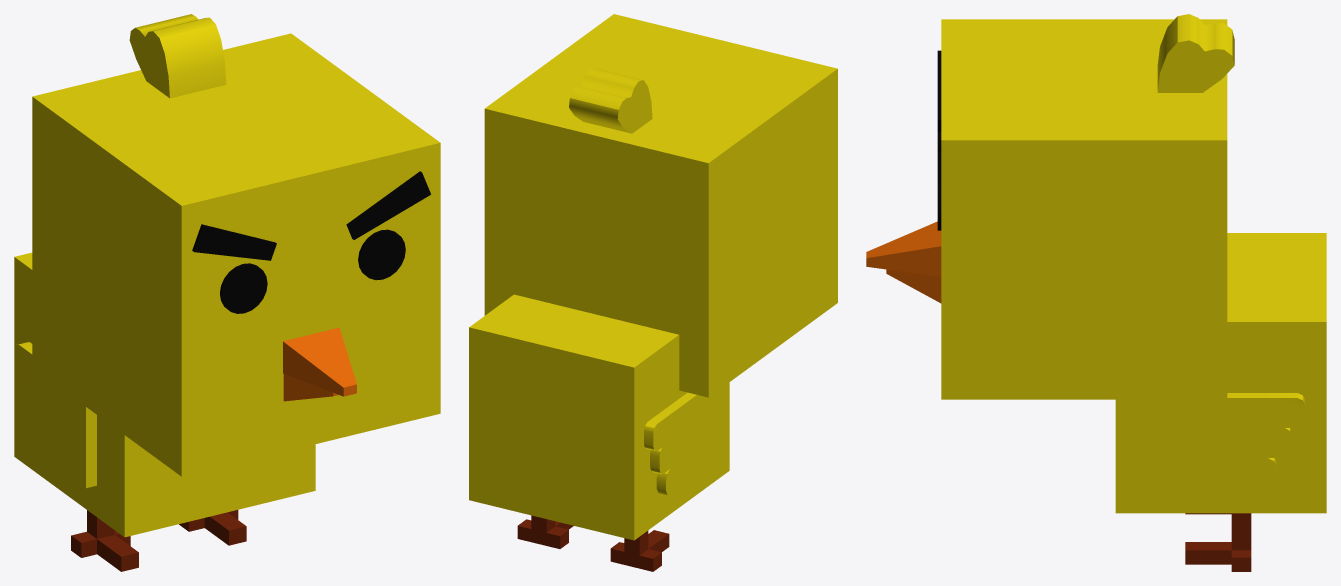
Rendered from Lv01_Bbiyomi.fbx.
3 renders of one model, left to right at view 1: azimuth 30°, elevation 25°; view 2: azimuth 150°, elevation 25°; view 3: azimuth 270°, elevation 25°, orthographic. The views are drawn at different scales.
Visible parts, largest first — view 1: pCube1, pCube2, pCube9, pCube5, pCube3, pCube11, pCube6, pCube7, pCylinder2, pCylinder1, pCube10, pCube4; view 2: pCube1, pCube2, pCube9, pCube5, pCube11, pCube10; view 3: pCube1, pCube2, pCube8, pCube5, pCube3, pCube10, pCube4.
Boxes of the visible parts, x1,y1,x2,y2 form: pCube1: (32,33,440,476); pCube2: (14,252,315,537); pCube9: (14,342,96,488); pCube5: (129,14,226,98); pCube3: (283,327,356,396); pCube11: (71,510,138,571); pCube6: (346,171,430,239); pCube7: (192,224,276,260); pCylinder2: (220,263,267,313); pCylinder1: (358,229,405,280); pCube10: (179,510,246,545); pCube4: (283,374,338,401); pCube1: (484,14,837,397); pCube2: (469,294,729,540); pCube9: (644,392,715,495); pCube5: (569,68,652,133); pCube11: (610,530,669,571); pCube10: (517,515,573,548); pCube1: (941,19,1227,399); pCube2: (1115,233,1326,513); pCube8: (1168,393,1305,487); pCube5: (1157,14,1234,92); pCube3: (866,221,941,276); pCube10: (1185,513,1251,571); pCube4: (886,269,941,303).
Size of the model in its own units: 14.55 by 28.51 by 23.4.
